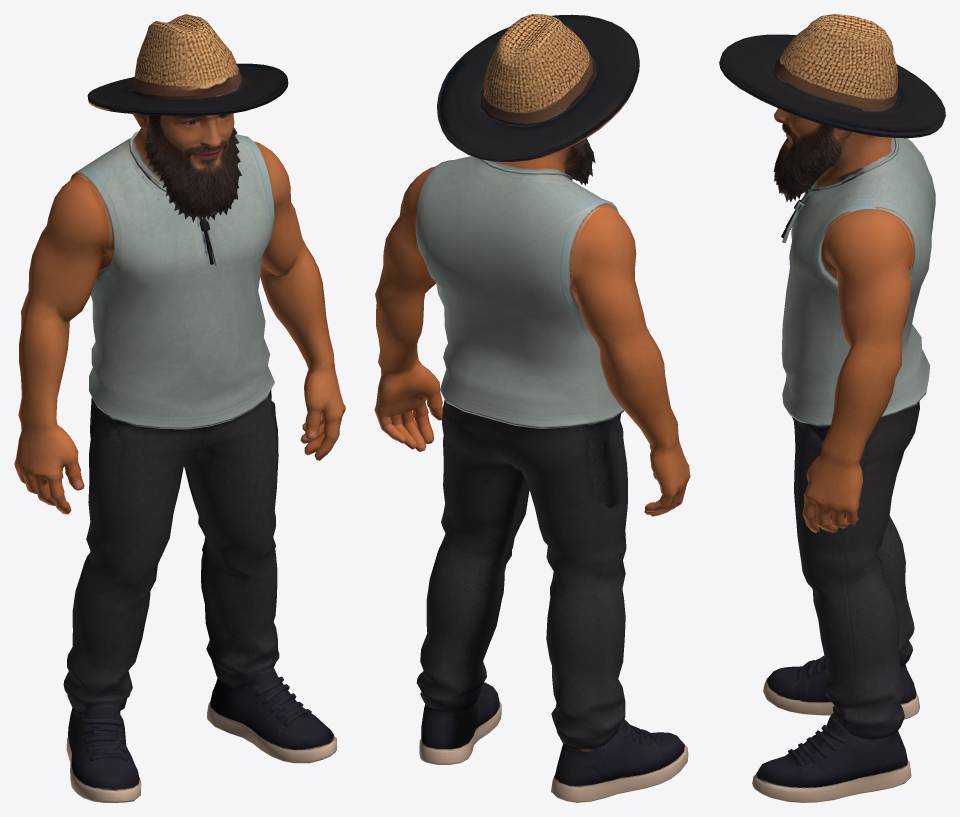
The model's file is avatar3.glb.
3 renders of one model, left to right at view 1: azimuth 30°, elevation 25°; view 2: azimuth 150°, elevation 25°; view 3: azimuth 270°, elevation 25°, orthographic.
Parts seen in each view (by area): view 1: tripo_551b4a0b_f86e_4611_9ead_f08cc9411a02; view 2: tripo_551b4a0b_f86e_4611_9ead_f08cc9411a02; view 3: tripo_551b4a0b_f86e_4611_9ead_f08cc9411a02.
Boxes of the visible parts, bbox=[...] form: tripo_551b4a0b_f86e_4611_9ead_f08cc9411a02: bbox=[14, 14, 345, 802]; tripo_551b4a0b_f86e_4611_9ead_f08cc9411a02: bbox=[374, 14, 690, 802]; tripo_551b4a0b_f86e_4611_9ead_f08cc9411a02: bbox=[719, 14, 945, 802].
Bounding box in the file's own units: 0.4429 × 0.9995 × 0.2827.
Materials: 1 (1 with a texture image).
